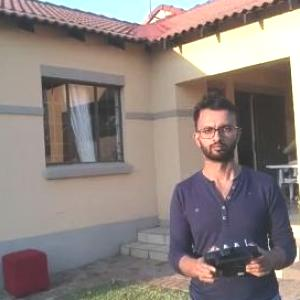follow: (165, 87, 300, 299)
